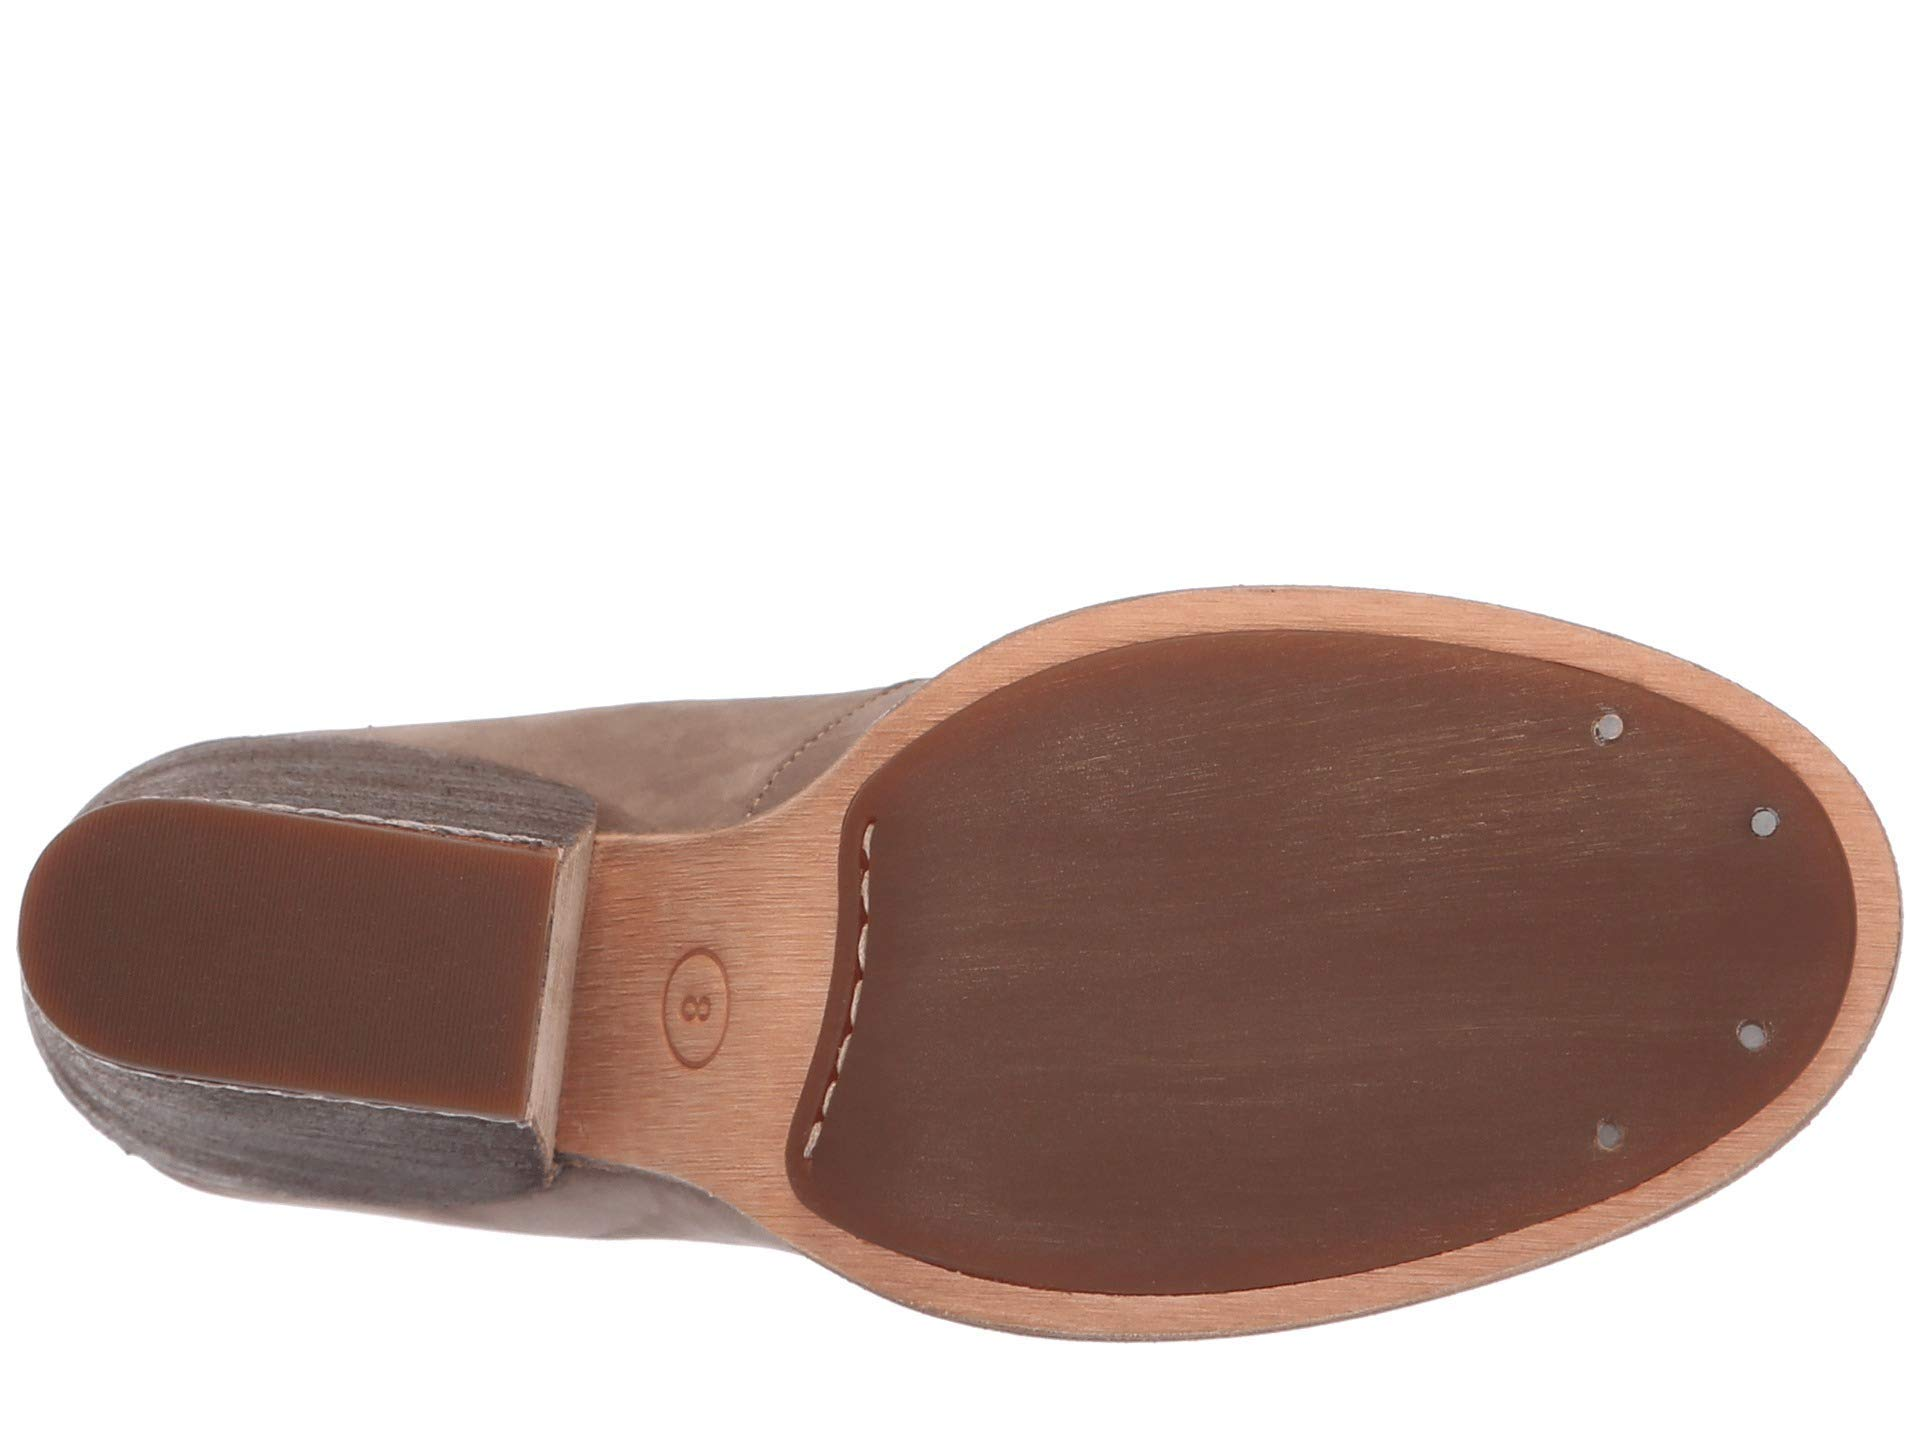circle: (1726, 787, 1805, 1094), (1572, 696, 1645, 784), (1592, 1103, 1642, 1175)
